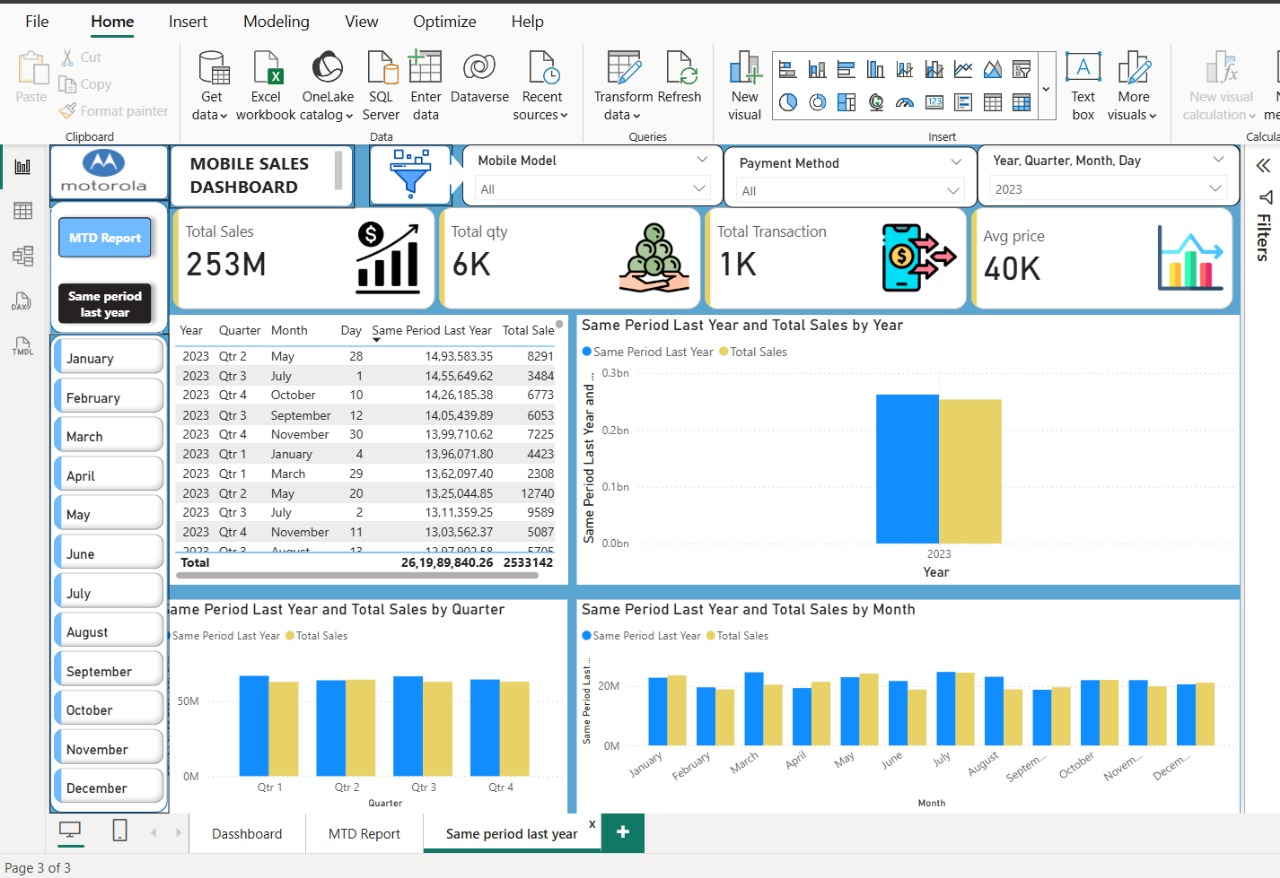

Layout of this report page (visuals, bound fields, positions):
{"tool":"powerbi","page":{"name":"Same period last year","canvas":[1280,720],"ordinal":2},"visuals":[{"type":"shape","box":[0,0,129,60.4],"z":0},{"type":"shape","box":[0,60.4,129,144.1],"z":1000},{"type":"cardVisual","fields":{"Data":["Mobile Sales Data.Total Sales","Mobile Sales Data.Total qty","Mobile Sales Data.Total Transaction","Mobile Sales Data.Avg price"]},"box":[128.3,63.3,1151.7,120],"z":2000},{"type":"slicer","fields":{"Values":["Mobile Sales Data.Mobile Model"]},"box":[444,0,281.1,66.4],"z":3000},{"type":"slicer","fields":{"Values":["Mobile Sales Data.Mobile Model"]},"box":[724.5,2.7,273.1,65.9],"z":4000},{"type":"slicer","fields":{"Values":["Mobile Sales Data.Mobile Model"]},"box":[1014.1,0,266.2,65.9],"z":5000},{"type":"slicer","fields":{"Values":["Custom calender.Date.Variation.Date Hierarchy.Year","Custom calender.Date.Variation.Date Hierarchy.Quarter","Custom calender.Date.Variation.Date Hierarchy.Month","Custom calender.Date.Variation.Date Hierarchy.Day"]},"box":[997.7,0,282.3,66.4],"z":6000},{"type":"shape","box":[343.8,0,89.3,66.4],"z":7000},{"type":"image","box":[298,0,181,63.9],"z":8000},{"type":"shape","box":[413.8,10.9,37.4,43.4],"z":9000},{"type":"shape","box":[129,0,199,68.6],"z":10000},{"type":"textbox","box":[146,2.4,173.7,55.5],"z":11000},{"type":"image","box":[8.4,0,100.1,54.3],"z":12000},{"type":"tableEx","fields":{"Values":["Custom calender.Date.Variation.Date Hierarchy.Year","Custom calender.Date.Variation.Date Hierarchy.Quarter","Custom calender.Date.Variation.Date Hierarchy.Month","Custom calender.Date.Variation.Date Hierarchy.Day","Mobile Sales Data.Same Period Last Year","Mobile Sales Data.Total Sales"]},"box":[128.8,183.8,428.8,290],"z":13000},{"type":"clusteredColumnChart","fields":{"Category":["Custom calender.Date.Variation.Date Hierarchy.Year","Custom calender.Date.Variation.Date Hierarchy.Quarter","Custom calender.Date.Variation.Date Hierarchy.Month","Custom calender.Date.Variation.Date Hierarchy.Day"],"Y":["Mobile Sales Data.Same Period Last Year","Mobile Sales Data.Total Sales"]},"box":[567.5,183.8,712.5,290],"z":14000},{"type":"clusteredColumnChart","fields":{"Y":["Mobile Sales Data.Same Period Last Year","Mobile Sales Data.Total Sales"],"Category":["Custom calender.Date.Variation.Date Hierarchy.Year","Custom calender.Date.Variation.Date Hierarchy.Quarter","Custom calender.Date.Variation.Date Hierarchy.Month","Custom calender.Date.Variation.Date Hierarchy.Day"]},"box":[567.5,490,712.5,230],"z":15000},{"type":"clusteredColumnChart","fields":{"Category":["Custom calender.Date.Variation.Date Hierarchy.Year","Custom calender.Date.Variation.Date Hierarchy.Quarter","Custom calender.Date.Variation.Date Hierarchy.Month","Custom calender.Date.Variation.Date Hierarchy.Day"],"Y":["Mobile Sales Data.Same Period Last Year","Mobile Sales Data.Total Sales"]},"box":[115,490,442.5,230],"z":16000},{"type":"shape","box":[0,203.8,128.8,516.2],"z":17000},{"type":"advancedSlicerVisual","fields":{"Values":["Custom calender.Date.Variation.Date Hierarchy.Month"]},"box":[0,203.4,128.4,516.5],"z":18000},{"type":"pageNavigator","box":[0,68.8,120.6,135.1],"z":19000}]}

Visuals, with their boxes on the page's 1280x720 design canvas (x1, y1, x2, y2). These are canvas units, not pixel positions in the 1280x878 screenshot, which may show the page scaled, cropped or inside an application window:
shape: <bbox>0, 0, 129, 60</bbox>
shape: <bbox>0, 60, 129, 204</bbox>
cardVisual - Mobile Sales Data.Total Sales x Mobile Sales Data.Total qty: <bbox>128, 63, 1280, 183</bbox>
slicer - Mobile Sales Data.Mobile Model: <bbox>444, 0, 725, 66</bbox>
slicer - Mobile Sales Data.Mobile Model: <bbox>724, 3, 998, 69</bbox>
slicer - Mobile Sales Data.Mobile Model: <bbox>1014, 0, 1280, 66</bbox>
slicer - Custom calender.Date.Variation.Date Hierarchy.Year x Custom calender.Date.Variation.Date Hierarchy.Quarter: <bbox>998, 0, 1280, 66</bbox>
shape: <bbox>344, 0, 433, 66</bbox>
image: <bbox>298, 0, 479, 64</bbox>
shape: <bbox>414, 11, 451, 54</bbox>
shape: <bbox>129, 0, 328, 69</bbox>
textbox: <bbox>146, 2, 320, 58</bbox>
image: <bbox>8, 0, 108, 54</bbox>
tableEx - Custom calender.Date.Variation.Date Hierarchy.Year x Custom calender.Date.Variation.Date Hierarchy.Quarter: <bbox>129, 184, 558, 474</bbox>
clusteredColumnChart - Custom calender.Date.Variation.Date Hierarchy.Year x Custom calender.Date.Variation.Date Hierarchy.Quarter: <bbox>568, 184, 1280, 474</bbox>
clusteredColumnChart - Mobile Sales Data.Same Period Last Year x Mobile Sales Data.Total Sales: <bbox>568, 490, 1280, 720</bbox>
clusteredColumnChart - Custom calender.Date.Variation.Date Hierarchy.Year x Custom calender.Date.Variation.Date Hierarchy.Quarter: <bbox>115, 490, 558, 720</bbox>
shape: <bbox>0, 204, 129, 720</bbox>
advancedSlicerVisual - Custom calender.Date.Variation.Date Hierarchy.Month: <bbox>0, 203, 128, 720</bbox>
pageNavigator: <bbox>0, 69, 121, 204</bbox>
